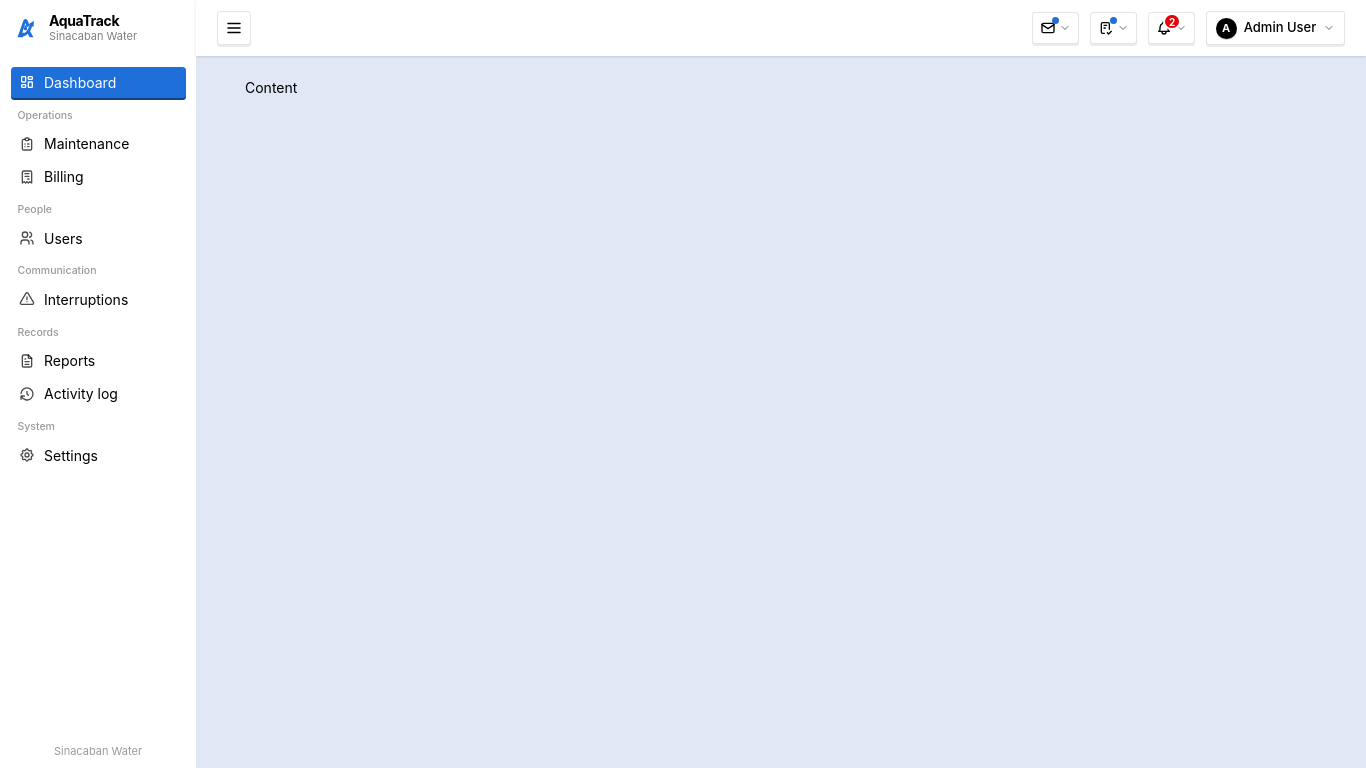
it: AdminLayout & Persistent Sidebar State › opens notification dropdown with hero entrance animation and mutual exclusivity
Expected: the text "Mark all read" is not shown
Note: Click Notification bell button
Click the button named "notifications": (1172, 28) [1148,12,1195,44]
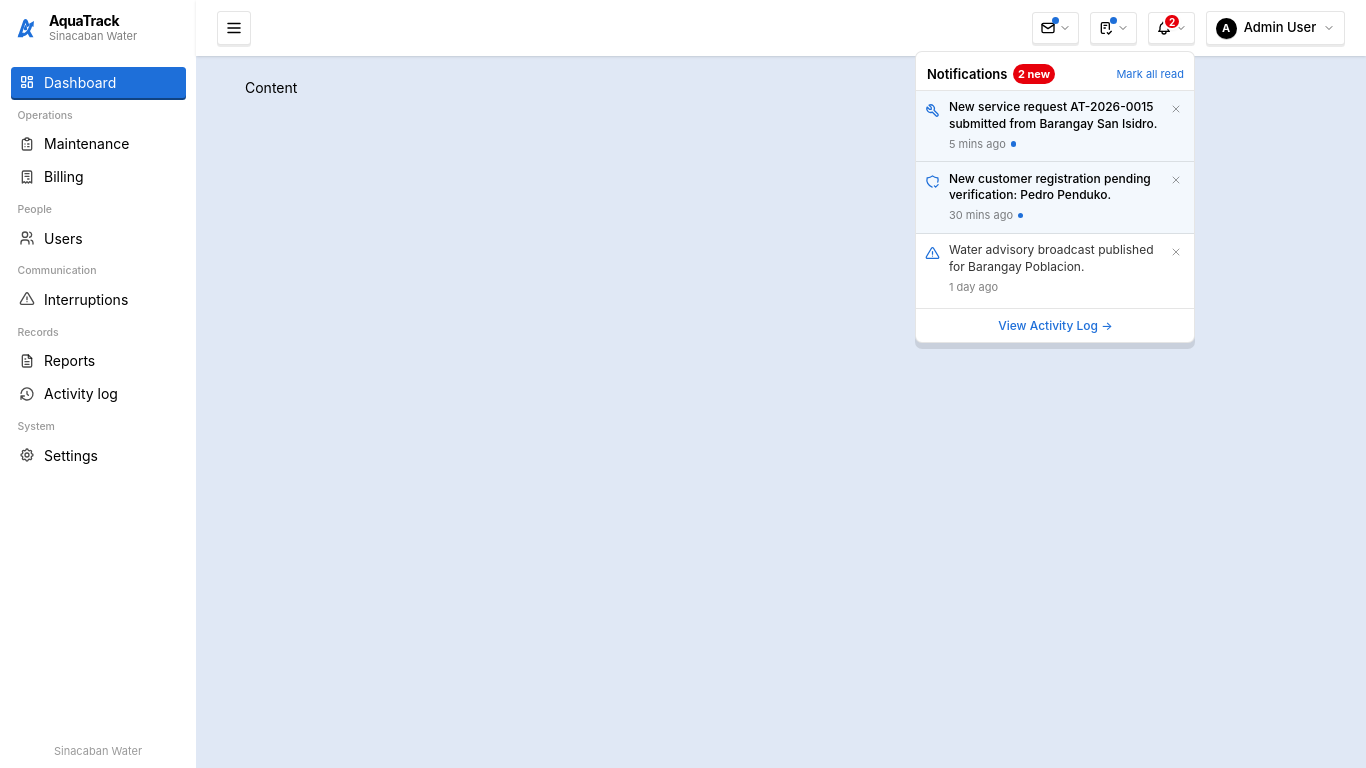
Result: the text "Notifications" is shown at [927,64,1007,84]
Result: the button "View Activity Log →" is shown at [998,316,1113,334]
Note: Clicking Communications button closes Notifications (mutual exclusivity)
Click the button titled "Messages & Communication": (1056, 28) [1032,12,1079,44]
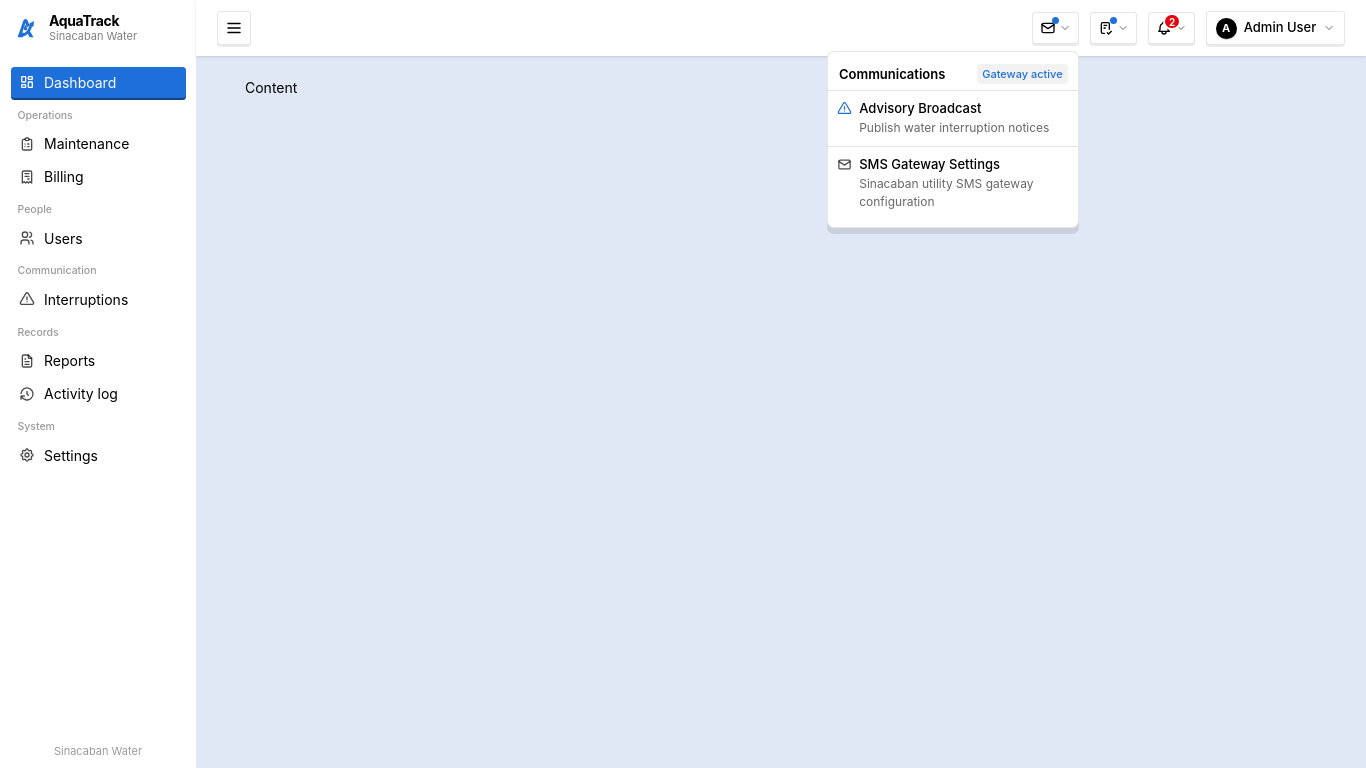
Result: the button "View Activity Log →" is gone
Result: the text "Communications" is shown at [839,64,945,84]
